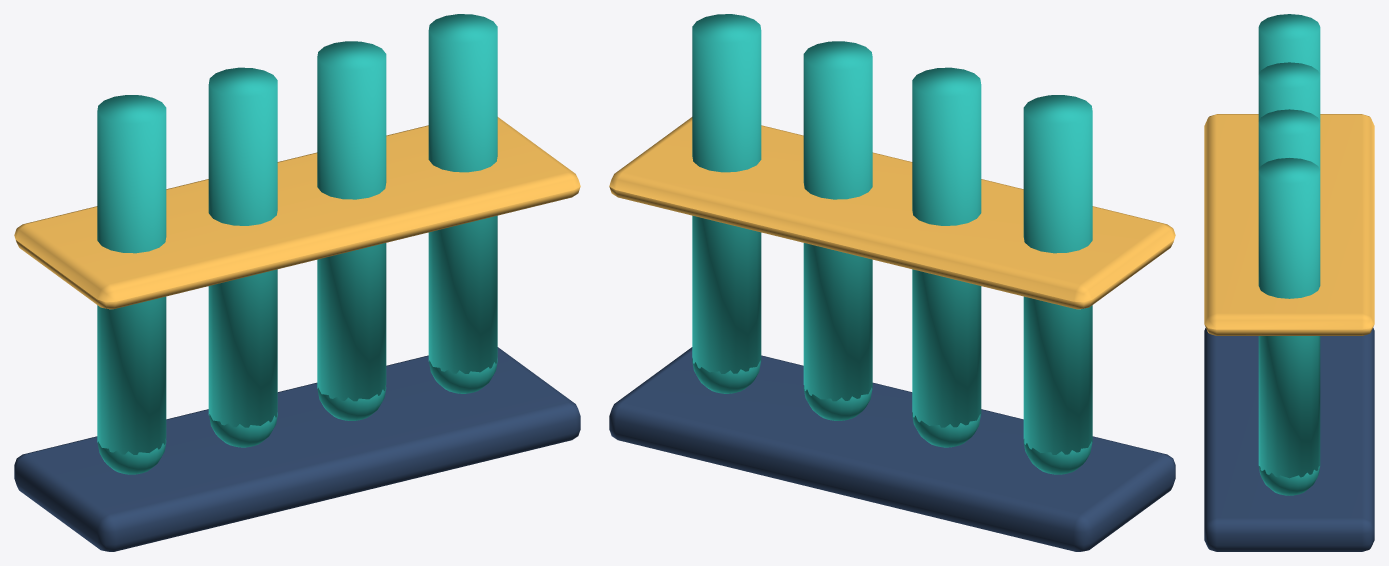
The model's file is test-tube-rack-lite.glb.
The picture shows the model from 3 angles, left to right: view 1: azimuth 30°, elevation 25°; view 2: azimuth 150°, elevation 25°; view 3: azimuth 270°, elevation 25°; orthographic projection. The views are drawn at different scales.
Visible parts, largest first — view 1: Rack base; view 2: Rack base; view 3: Rack base.
Part boxes in pixels (left/top/right/bottom): Rack base: left=14, top=14, right=580, bottom=551; Rack base: left=609, top=14, right=1175, bottom=551; Rack base: left=1204, top=14, right=1374, bottom=551.
Bounding box in the file's own units: 1.6 × 1.26 × 0.55.
